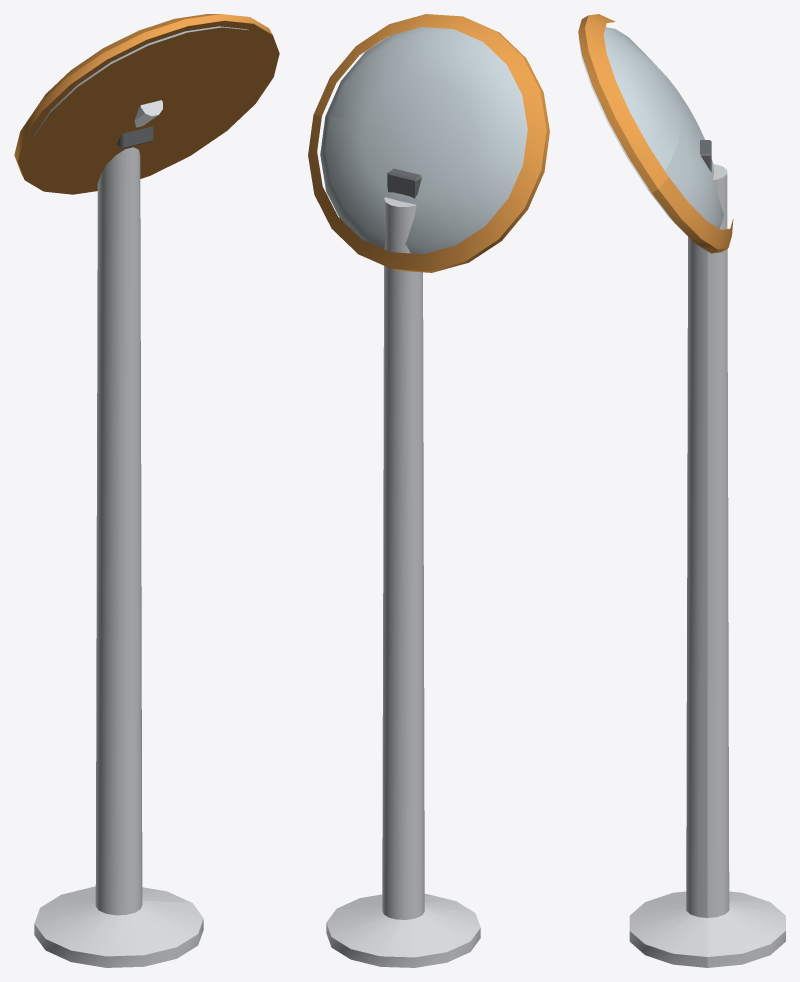
File: aisle-safety-mirror-post.glb
3 views of the same model, side by side, from view 1: azimuth 30°, elevation 25°; view 2: azimuth 150°, elevation 25°; view 3: azimuth 270°, elevation 25° (orthographic). The views are drawn at different scales.
Parts seen in each view (by area): view 1: safety-mirror-post; view 2: safety-mirror-post; view 3: safety-mirror-post.
Part boxes in pixels (box(x1,y1,x2,y2)): safety-mirror-post: box(14, 14, 279, 967); safety-mirror-post: box(308, 14, 549, 967); safety-mirror-post: box(578, 14, 785, 967).
Bounding box in the file's own units: 0.68 × 2.5 × 0.5187.
